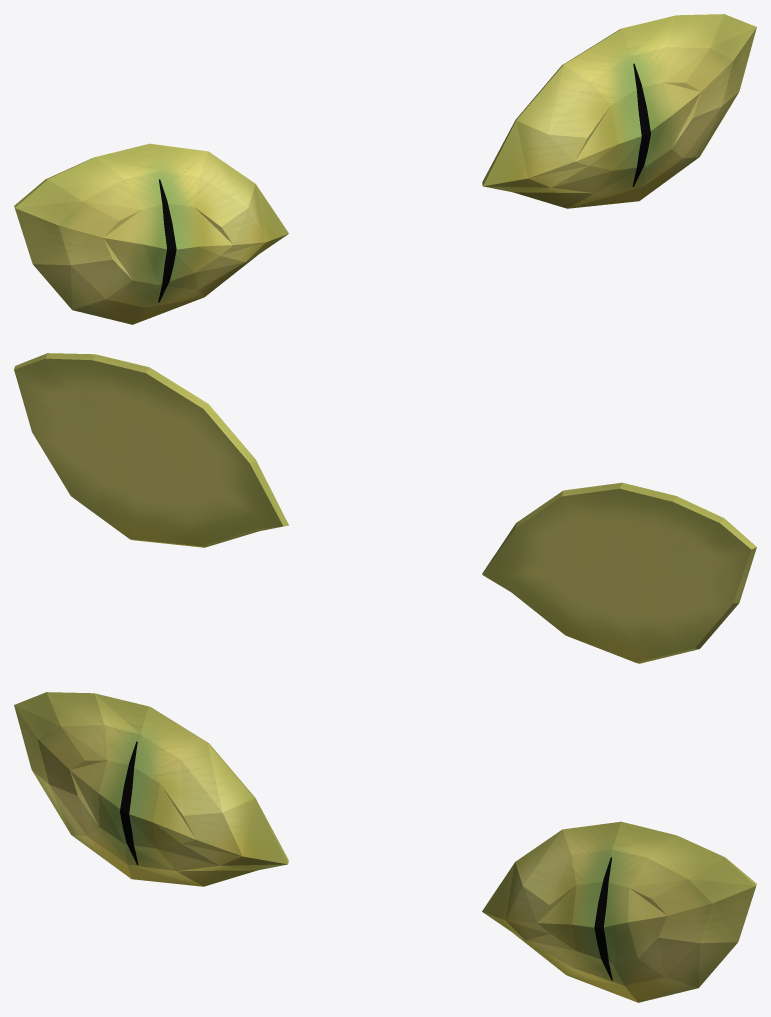
The model's file is catEye.obj.
3 renders of one model, top to bottom at view 1: azimuth 30°, elevation 25°; view 2: azimuth 150°, elevation 25°; view 3: azimuth 330°, elevation 25°, orthographic.
Size of the model in its own units: 6.34 by 1.44 by 0.3928.
2 materials, 1 textured.
